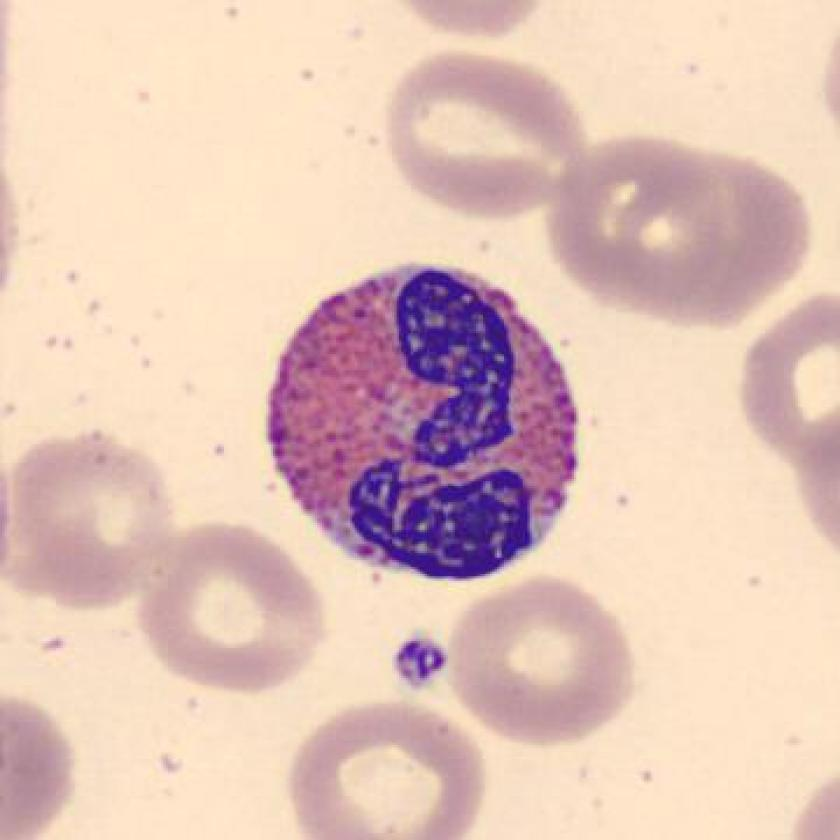eosinophil: (255, 251, 601, 593)
